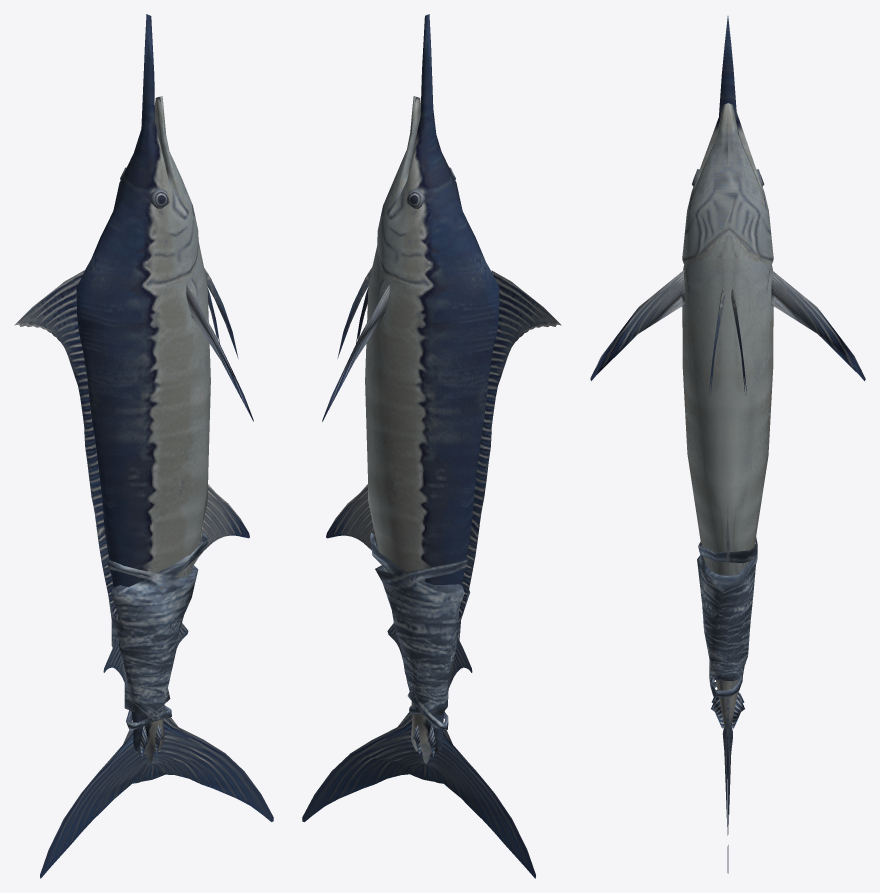
The model's file is Swordfish.fbx.
3 renders of one model, left to right at view 1: azimuth 30°, elevation 25°; view 2: azimuth 150°, elevation 25°; view 3: azimuth 270°, elevation 25°, orthographic. The views are drawn at different scales.
Visible parts, largest first — view 1: handle; view 2: handle; view 3: handle.
Part boxes in pixels (left/top/right/bottom): handle: left=14, top=14, right=273, bottom=878; handle: left=302, top=14, right=561, bottom=878; handle: left=590, top=16, right=865, bottom=873.
Size of the model in its own units: 0.2248 by 0.6946 by 0.2154.
